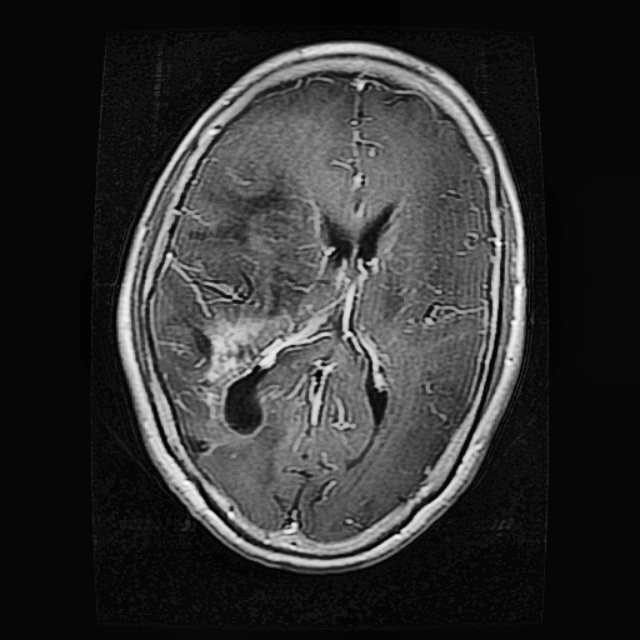Meningioma: (163, 302, 333, 460)
